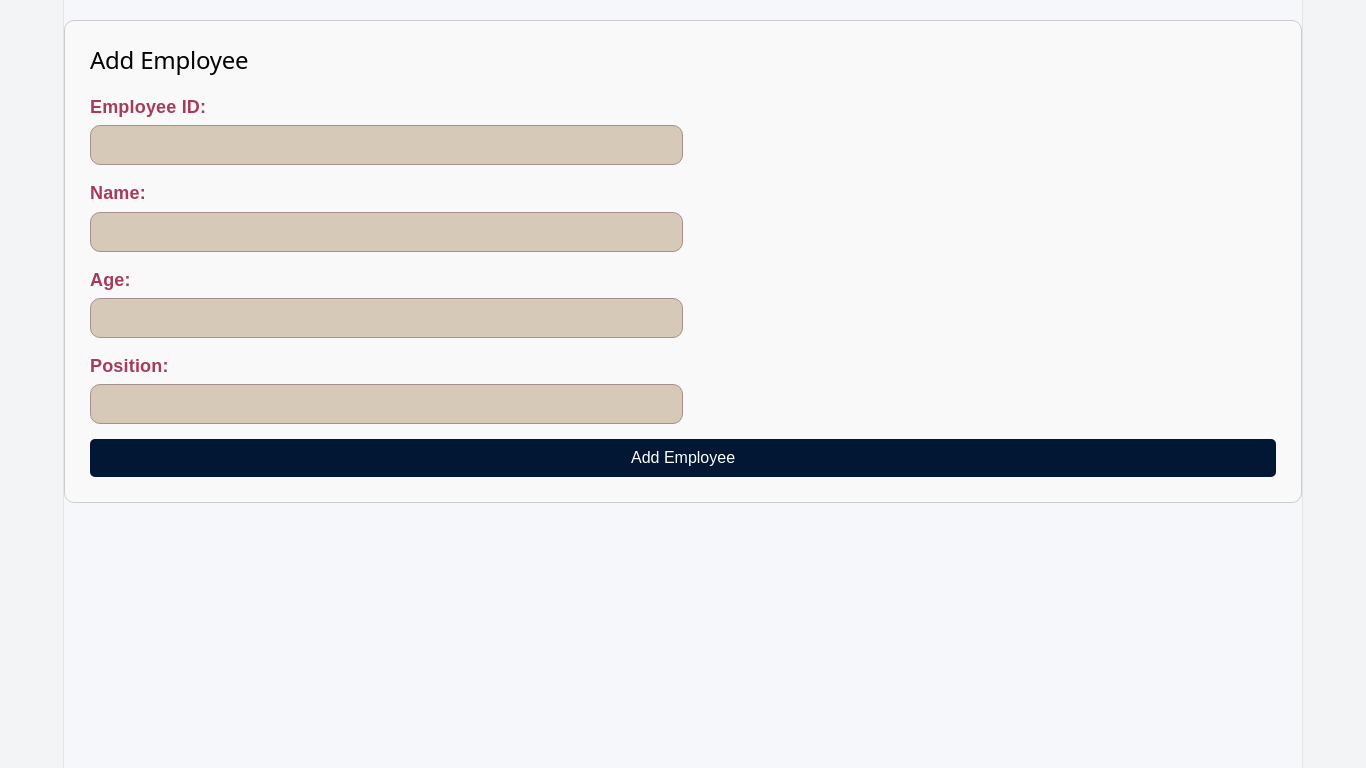
Test: Employee form › shows validation errors when required fields are empty
Click the button "Add Employee" at point(683, 458), box [90, 439, 1276, 477]
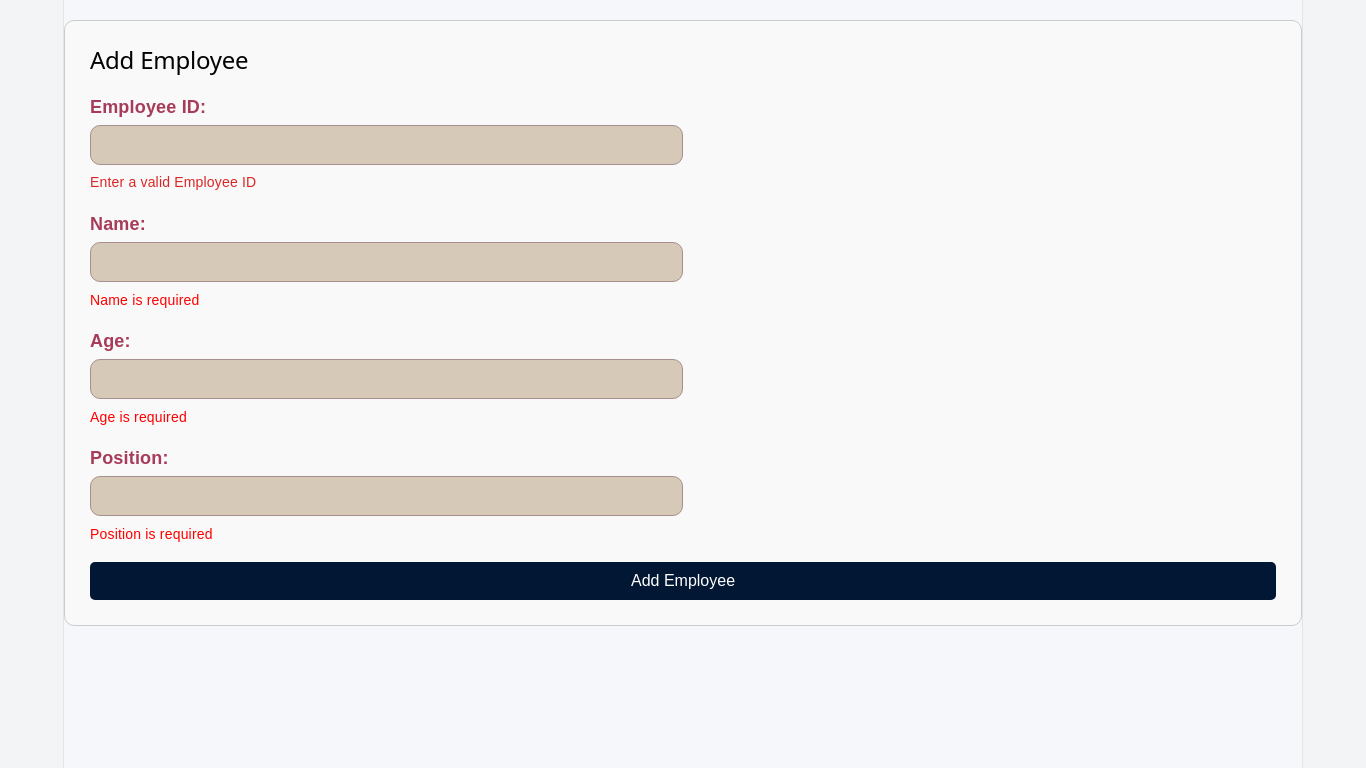
Result: the text "Enter a valid Employee ID" is shown at [90, 174, 256, 190]
Result: the text "Name is required" is shown at [90, 292, 200, 308]
Result: the text "Age is required" is shown at [90, 409, 187, 425]
